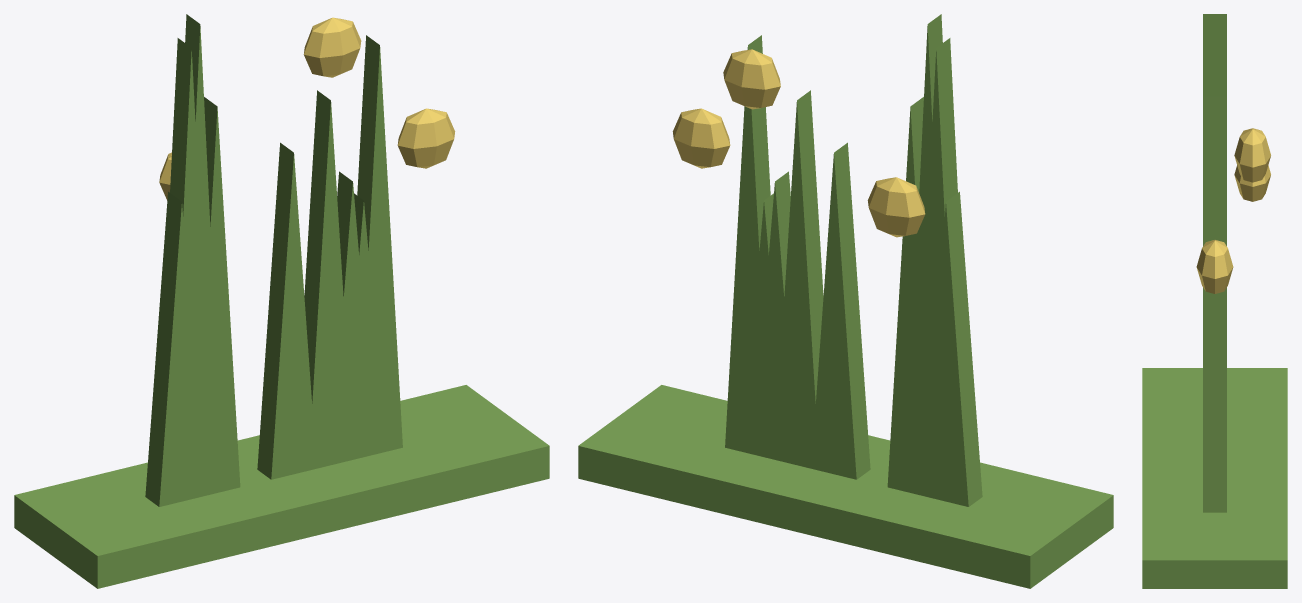
The model's file is GG-VEG-GRASS-COASTAL-TUFT-002_LOD_GAMEPLAY.glb.
3 renders of one model, left to right at view 1: azimuth 30°, elevation 25°; view 2: azimuth 150°, elevation 25°; view 3: azimuth 270°, elevation 25°, orthographic. The views are drawn at different scales.
Visible parts, largest first — view 1: GG_VEG_MOD_BASE_001, GG_VEG_MODULE_3, GG_VEG_MODULE_4, GG_VEG_MODULE_8, GG_VEG_MODULE_7, GG_VEG_MODULE_2, GG_VEG_MODULE_6, GG_VEG_MODULE_5, GG_VEG_MODULE_1, GG_VEG_MODULE_9, GG_VEG_ACCENT_1, GG_VEG_ACCENT_2; view 2: GG_VEG_MOD_BASE_001, GG_VEG_MODULE_7, GG_VEG_MODULE_3, GG_VEG_MODULE_8, GG_VEG_MODULE_2, GG_VEG_MODULE_5, GG_VEG_MODULE_6, GG_VEG_MODULE_4, GG_VEG_MODULE_1, GG_VEG_MODULE_9, GG_VEG_ACCENT_2, GG_VEG_ACCENT_1 (+1 smaller); view 3: GG_VEG_MOD_BASE_001, GG_VEG_MODULE_2, GG_VEG_MODULE_4, GG_VEG_ACCENT_2, GG_VEG_ACCENT_1, GG_VEG_MODULE_5, GG_VEG_ACCENT_3.
Part boxes in pixels (box(x1,y1,x2,y2)): GG_VEG_MOD_BASE_001: box(14, 385, 549, 588); GG_VEG_MODULE_3: box(257, 142, 316, 479); GG_VEG_MODULE_4: box(177, 14, 223, 502); GG_VEG_MODULE_8: box(304, 90, 348, 468); GG_VEG_MODULE_7: box(168, 38, 214, 504); GG_VEG_MODULE_2: box(357, 35, 402, 457); GG_VEG_MODULE_6: box(145, 191, 187, 506); GG_VEG_MODULE_5: box(204, 97, 240, 491); GG_VEG_MODULE_1: box(341, 193, 386, 462); GG_VEG_MODULE_9: box(330, 171, 371, 464); GG_VEG_ACCENT_1: box(397, 108, 455, 168); GG_VEG_ACCENT_2: box(303, 17, 361, 77); GG_VEG_MOD_BASE_001: box(578, 385, 1113, 588); GG_VEG_MODULE_7: box(913, 38, 959, 504); GG_VEG_MODULE_3: box(811, 142, 870, 479); GG_VEG_MODULE_8: box(779, 90, 823, 468); GG_VEG_MODULE_2: box(725, 35, 770, 458); GG_VEG_MODULE_5: box(887, 97, 926, 493); GG_VEG_MODULE_6: box(938, 191, 982, 506); GG_VEG_MODULE_4: box(905, 14, 950, 502); GG_VEG_MODULE_1: box(742, 193, 786, 462); GG_VEG_MODULE_9: box(764, 171, 797, 465); GG_VEG_ACCENT_2: box(723, 49, 780, 109); GG_VEG_ACCENT_1: box(672, 108, 730, 168); GG_VEG_MOD_BASE_001: box(1142, 368, 1287, 588); GG_VEG_MODULE_2: box(1203, 147, 1226, 512); GG_VEG_MODULE_4: box(1203, 14, 1226, 96); GG_VEG_ACCENT_2: box(1234, 128, 1270, 182); GG_VEG_ACCENT_1: box(1196, 240, 1233, 293); GG_VEG_MODULE_5: box(1203, 96, 1226, 146); GG_VEG_ACCENT_3: box(1234, 165, 1270, 201).
Size of the model in its own units: 0.864 by 0.9236 by 0.276.
